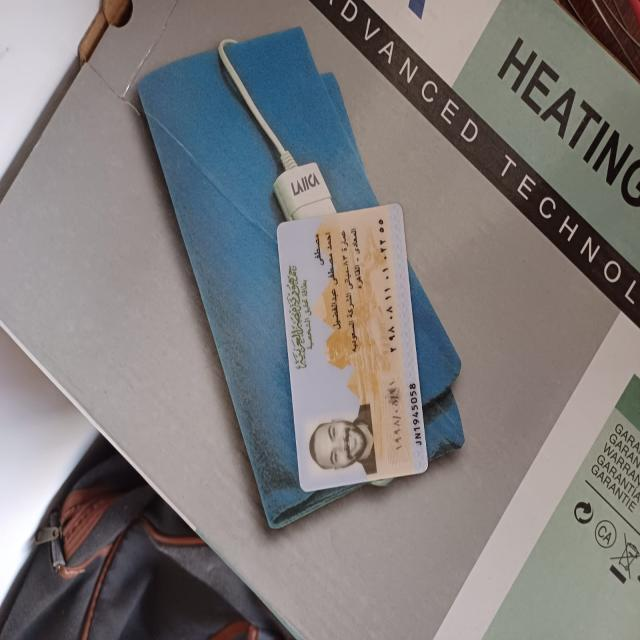ID-cards: (273, 195, 442, 502)
